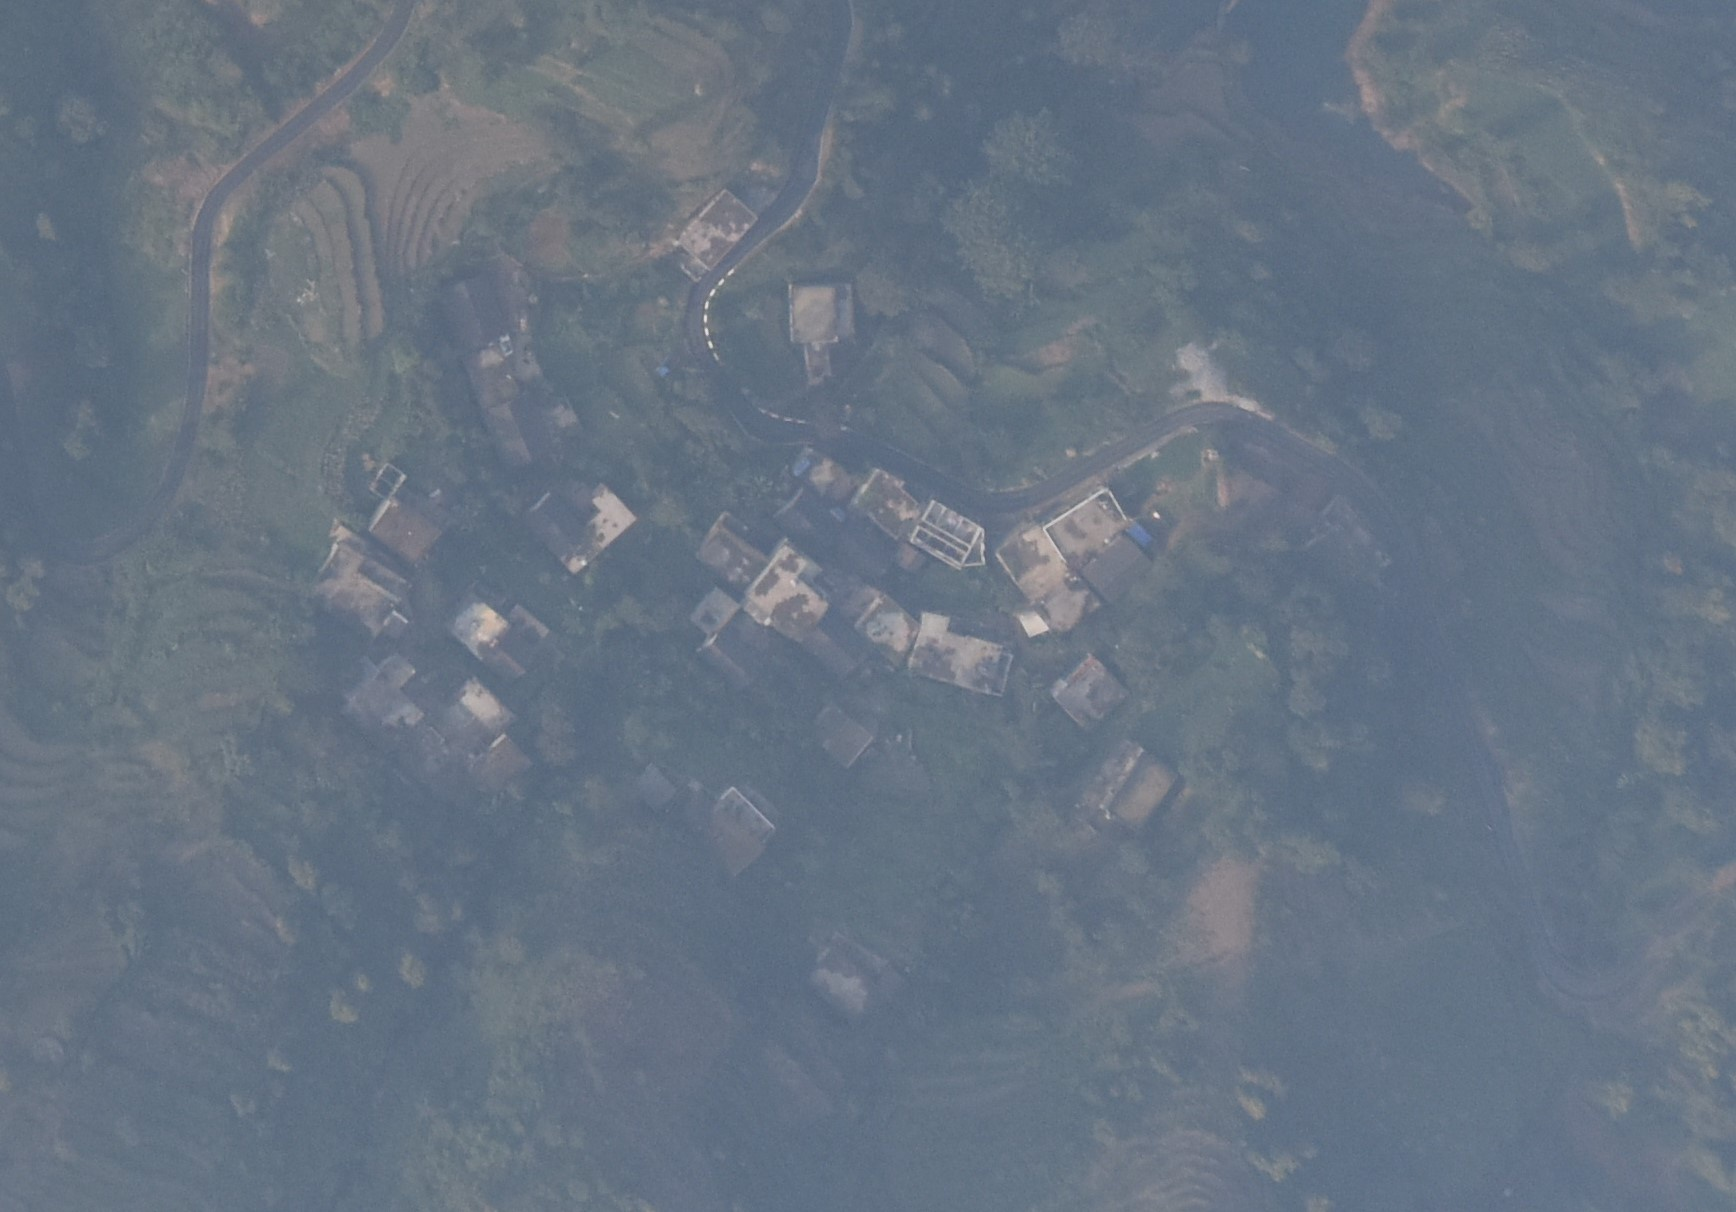building: (995, 525, 1113, 636), (304, 523, 413, 635), (796, 930, 911, 1023), (741, 538, 835, 645), (906, 610, 1014, 701), (677, 182, 757, 292), (361, 482, 457, 570), (1044, 485, 1135, 570), (1100, 740, 1184, 829), (559, 483, 638, 577), (323, 654, 422, 728), (704, 784, 779, 880), (842, 584, 921, 672), (688, 511, 770, 593), (435, 274, 513, 352), (1049, 654, 1129, 729), (907, 499, 987, 572), (843, 468, 922, 539), (1080, 533, 1161, 602), (520, 490, 591, 567), (478, 395, 552, 467), (769, 494, 845, 559), (806, 700, 878, 768), (692, 628, 767, 693), (468, 727, 530, 802), (446, 591, 512, 660), (785, 280, 845, 347), (472, 627, 540, 684), (633, 758, 687, 810), (803, 342, 839, 386)
prefabricated-house: (1126, 521, 1153, 547)
